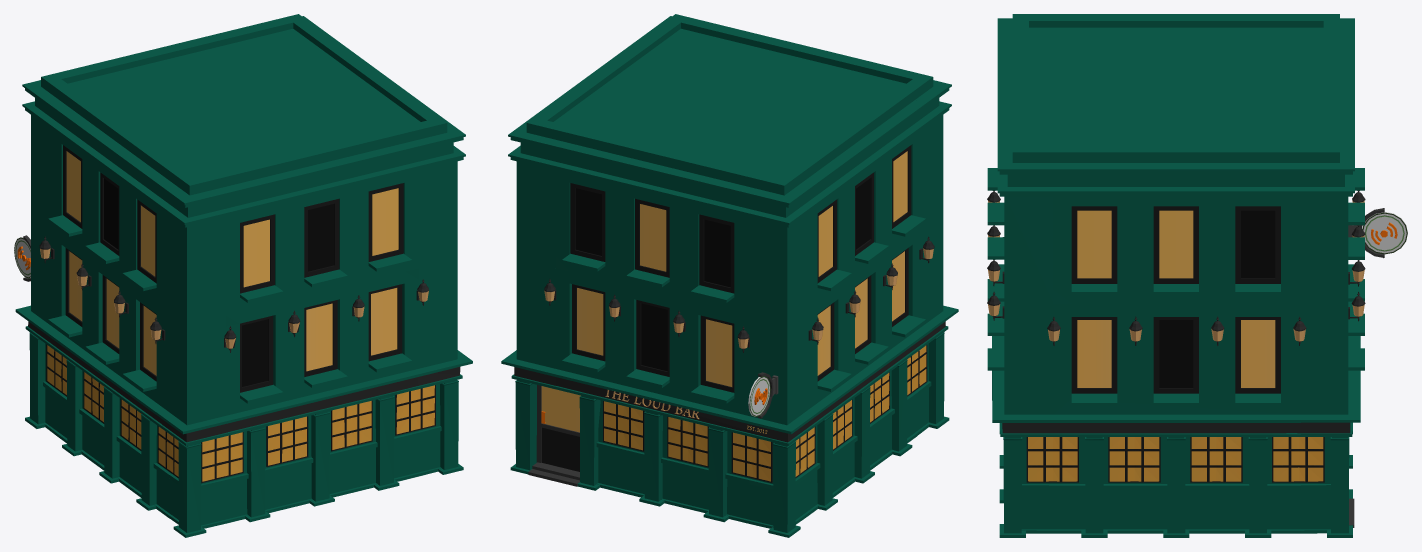
File: irish-bar-building.glb
3 renders of one model, left to right at view 1: azimuth 30°, elevation 25°; view 2: azimuth 150°, elevation 25°; view 3: azimuth 270°, elevation 25°, orthographic. The views are drawn at different scales.
Visible parts, largest first — view 1: irish-bar-building; view 2: irish-bar-building; view 3: irish-bar-building.
Part boxes in pixels (left/top/right/bottom): irish-bar-building: left=14, top=14, right=472, bottom=537; irish-bar-building: left=501, top=14, right=958, bottom=537; irish-bar-building: left=987, top=14, right=1407, bottom=537.
Size of the model in its own units: 9.25 by 10.25 by 10.28.
2 materials, 1 textured.
